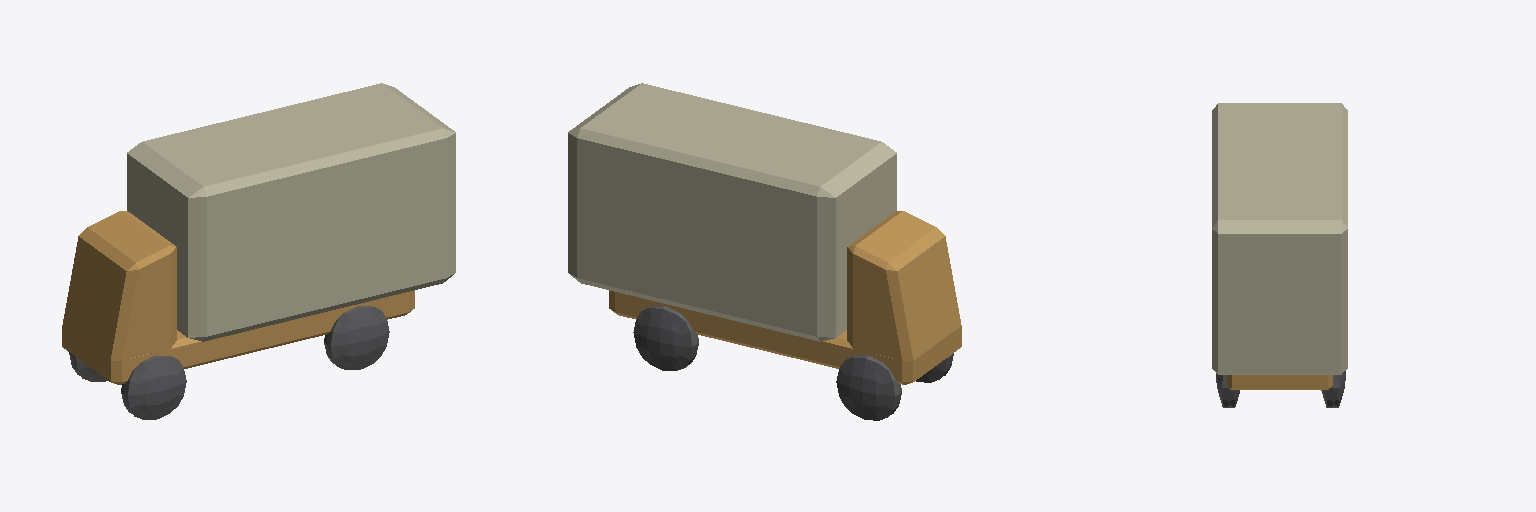
3 renders of one model, left to right at view 1: azimuth 30°, elevation 25°; view 2: azimuth 150°, elevation 25°; view 3: azimuth 270°, elevation 25°, orthographic.
Parts seen in each view (by area): view 1: 立方体.003; view 2: 立方体.003; view 3: 立方体.003.
Boxes of the visible parts, box(x1,y1,x2,y2) form: 立方体.003: box(62, 83, 455, 419); 立方体.003: box(568, 83, 961, 420); 立方体.003: box(1212, 103, 1347, 407).
Bounding box in the file's own units: 10.06 × 6.35 × 3.5.
Materials: 1 (1 with a texture image).